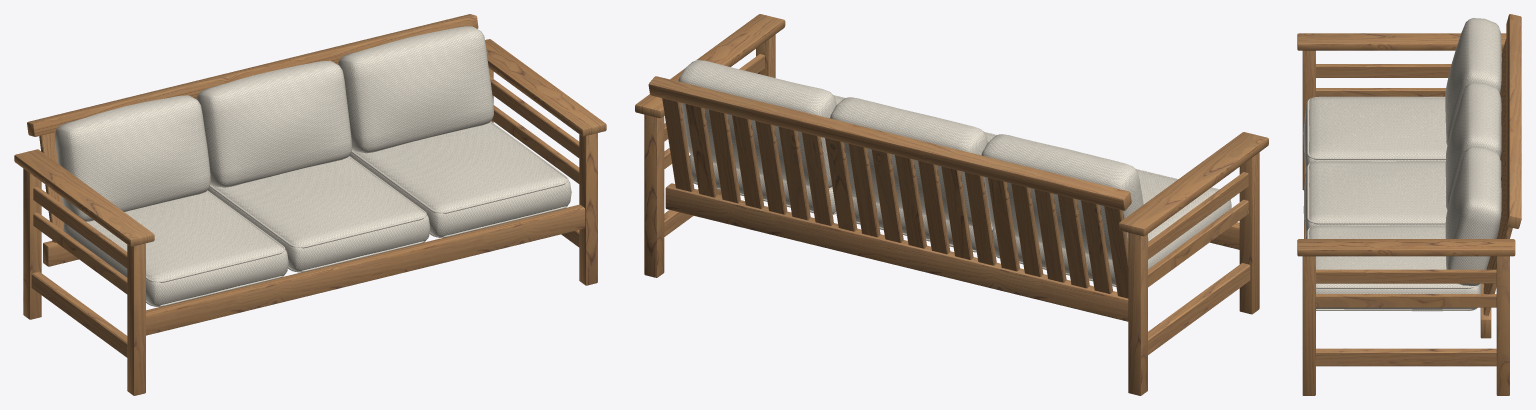
File: sofa_teca_3p.glb
3 views of the same model, side by side, from view 1: azimuth 30°, elevation 25°; view 2: azimuth 150°, elevation 25°; view 3: azimuth 270°, elevation 25° (orthographic). The views are drawn at different scales.
Visible parts, largest first — view 1: sofa_teca_3p; view 2: sofa_teca_3p; view 3: sofa_teca_3p.
Boxes of the visible parts, x1,y1,x2,y2 form: sofa_teca_3p: (14,14,606,395); sofa_teca_3p: (635,14,1268,395); sofa_teca_3p: (1297,14,1521,395).
Bounding box in the file's own units: 1.93 × 0.7603 × 0.844.
2 materials, 2 textured.
